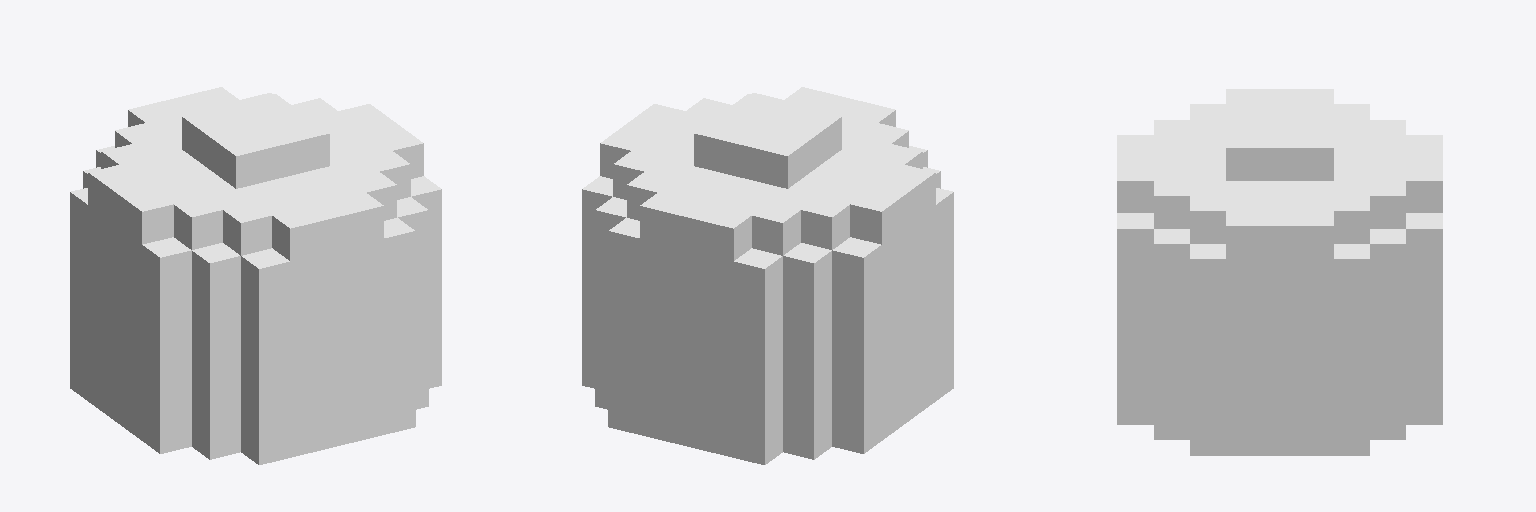
File: Pot.obj
3 views of the same model, side by side, from view 1: azimuth 30°, elevation 25°; view 2: azimuth 150°, elevation 25°; view 3: azimuth 270°, elevation 25° (orthographic).
Visible parts, largest first — view 1: Pot; view 2: Pot; view 3: Pot.
Boxes of the visible parts, x1=… form: Pot: x1=70, y1=87, x2=441, y2=464; Pot: x1=582, y1=87, x2=953, y2=464; Pot: x1=1117, y1=89, x2=1442, y2=455.
Bounding box in the file's own units: 9 × 8 × 9.